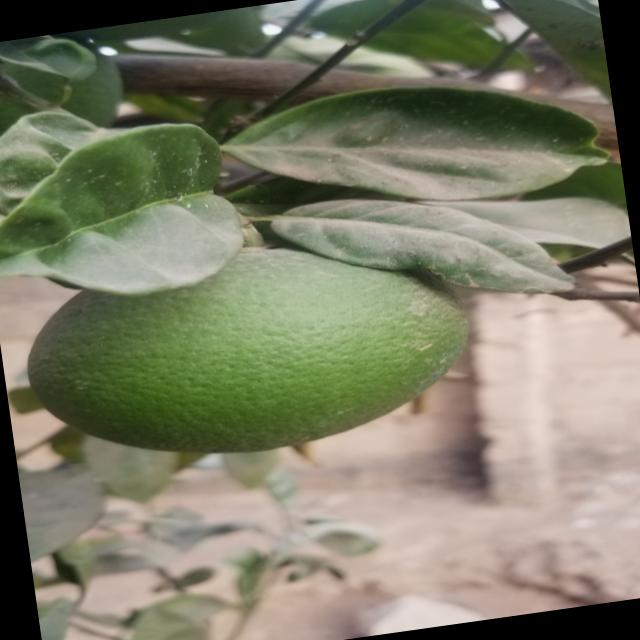Unripe: (22, 230, 480, 468)
